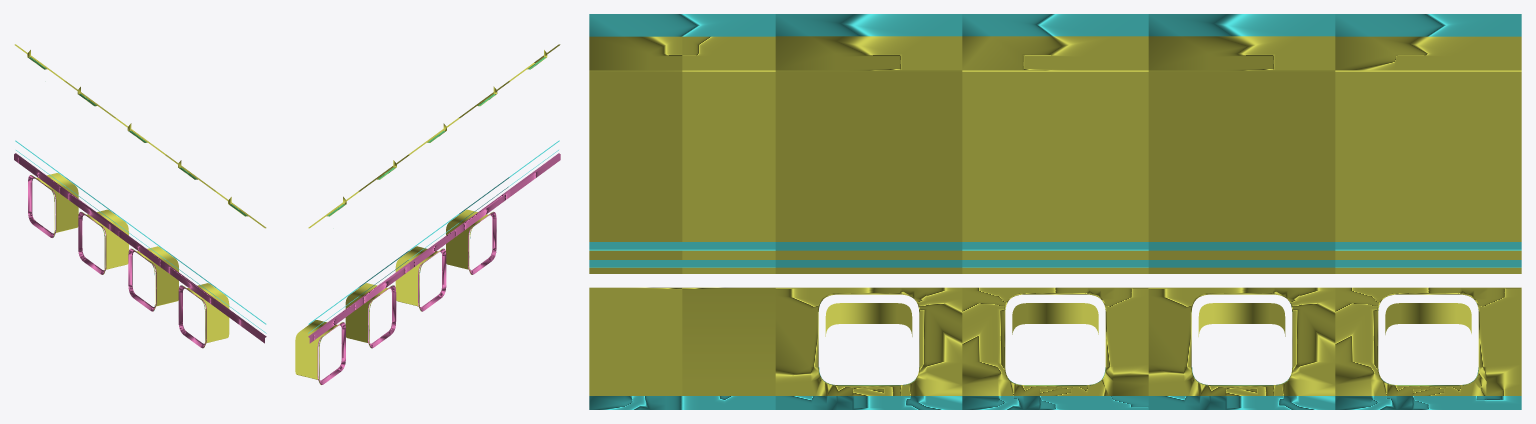
The model's file is EastBulkheadWall_clean_deluxe_arch_uee_01.glb.
The picture shows the model from 3 angles, left to right: view 1: azimuth 30°, elevation 25°; view 2: azimuth 150°, elevation 25°; view 3: azimuth 270°, elevation 25°; orthographic projection. The views are drawn at different scales.
Size of the model in its own units: 5.47 by 35 by 75.
